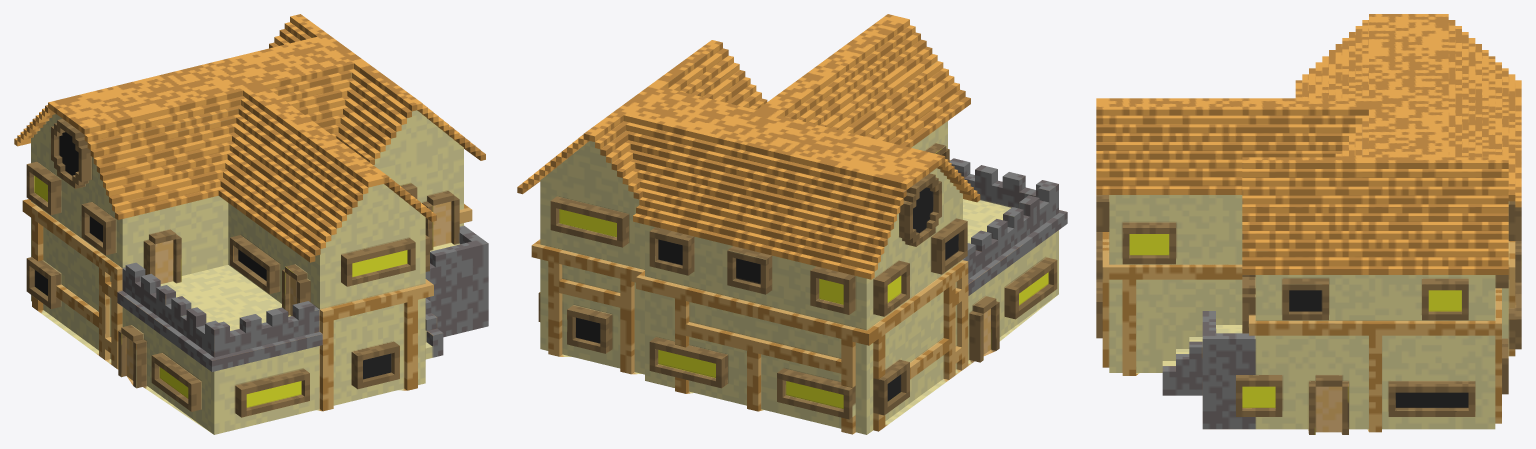
File: House_1.obj
The picture shows the model from 3 angles, left to right: view 1: azimuth 30°, elevation 25°; view 2: azimuth 150°, elevation 25°; view 3: azimuth 270°, elevation 25°; orthographic projection. The views are drawn at different scales.
Visible parts, largest first — view 1: House_1_Medieval_Assets-23.001; view 2: House_1_Medieval_Assets-23.001; view 3: House_1_Medieval_Assets-23.001.
Part boxes in pixels (x1,y1,x2,y2): House_1_Medieval_Assets-23.001: [14, 14, 488, 434]; House_1_Medieval_Assets-23.001: [517, 14, 1067, 434]; House_1_Medieval_Assets-23.001: [1096, 14, 1521, 434].
Bounding box in the file's own units: 6.5 × 4 × 6.4.
Materials: 1 (1 with a texture image).
